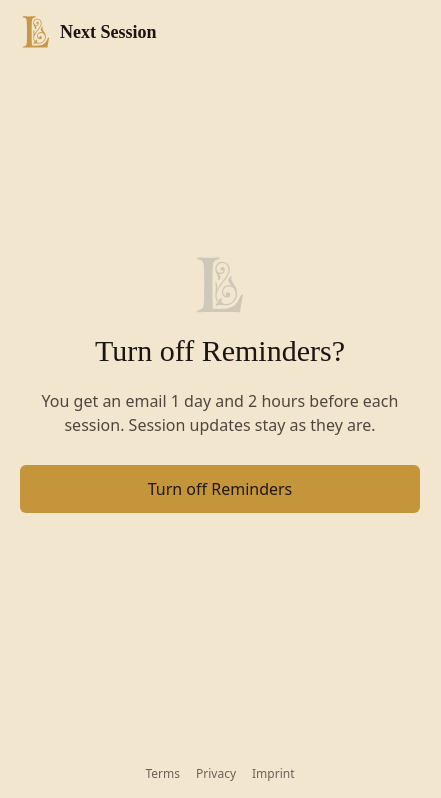
Scenario: RemindersOff › says what went wrong without the server's words
Click the button "Turn off Reminders": [220, 489] box [20, 465, 420, 513]
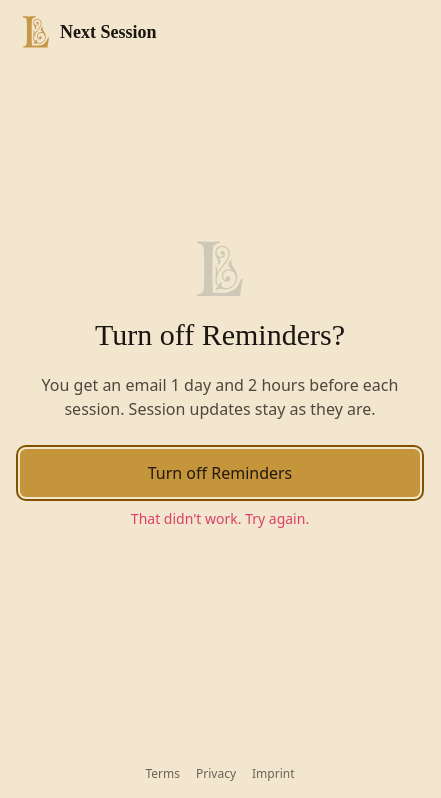
Expected: the message reads "That didn't work. Try again.", [131, 509, 309, 528]
